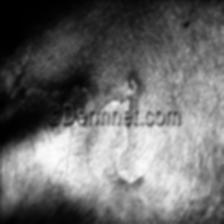Toxin: (43, 130, 174, 180), (54, 64, 174, 108)
